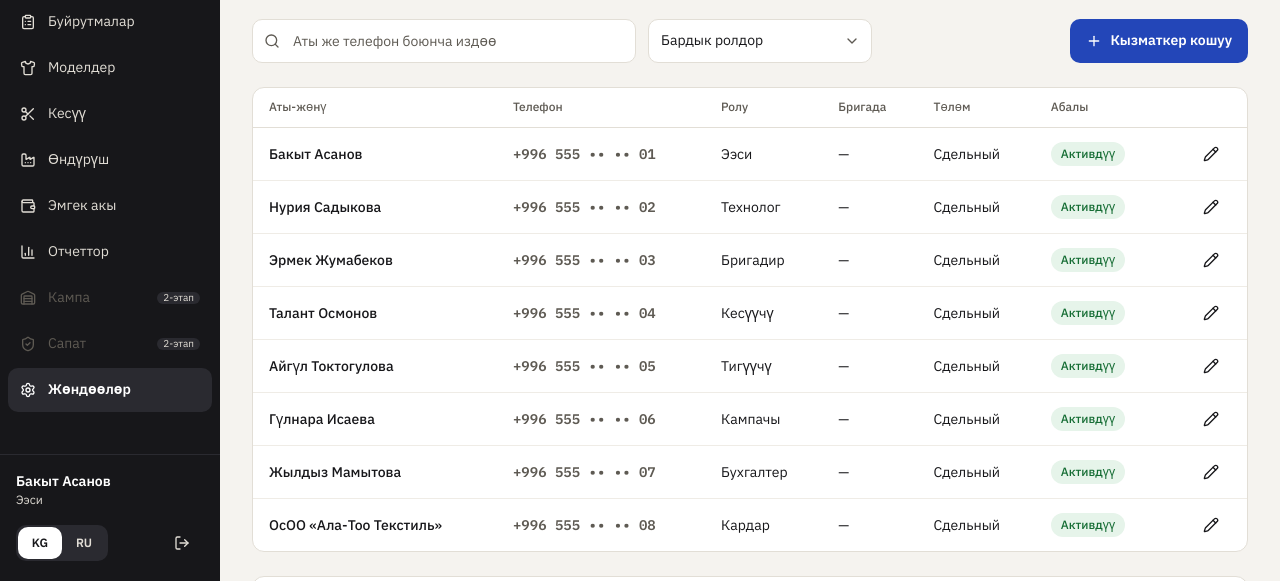
Test: settings (2.10) › adds a sewer: the PIN is sent automatically
The image size is (1280, 581).
Expected: the text "Айгүл Токтогулова" is shown, [269,357,394,375]
Click the button "Кызматкер кошуу": (1159, 41) [1070,19,1248,63]
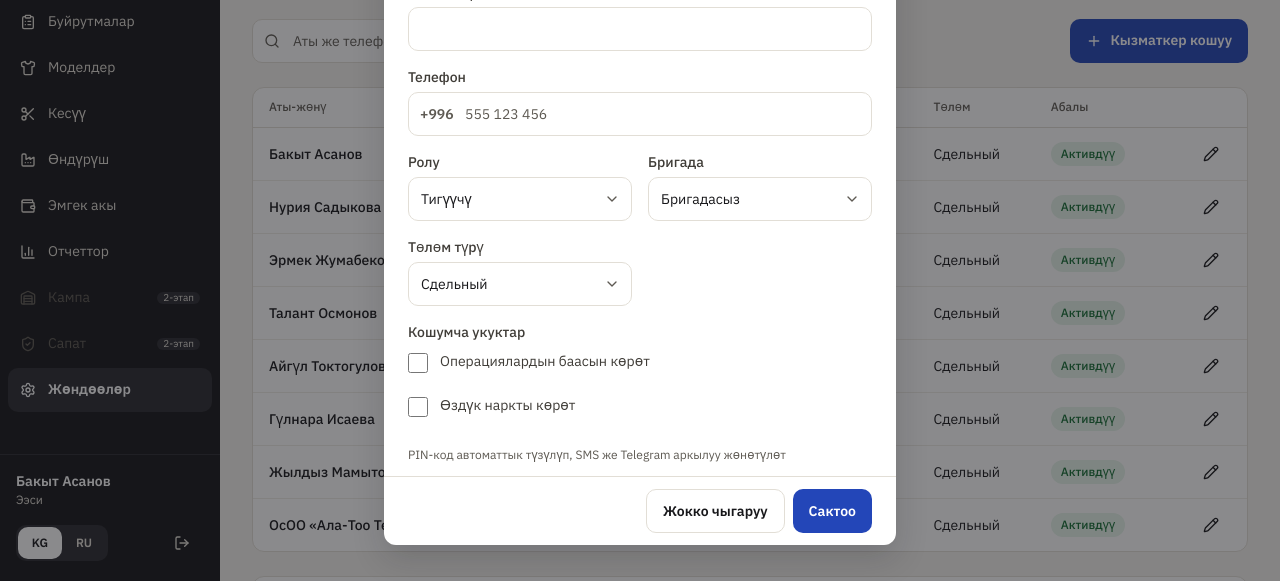
Expected: the text "PIN-код автоматтык түзүлүп, SMS же Telegram аркылуу жөнөтүлөт" is shown, [408,447,786,462]
In the field labelled "Аты-жөнү": (640, 29) [408,7,872,51], type "Мээрим Абдыкадырова"
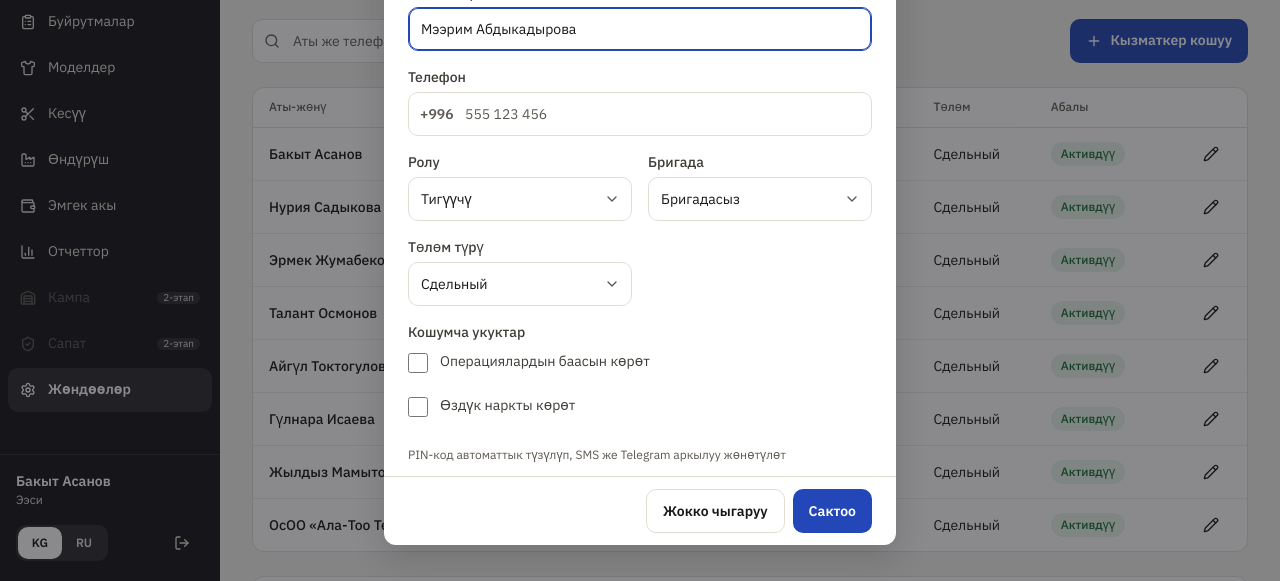
In the field labelled "Телефон": (640, 114) [408,92,872,136], type "700123456"
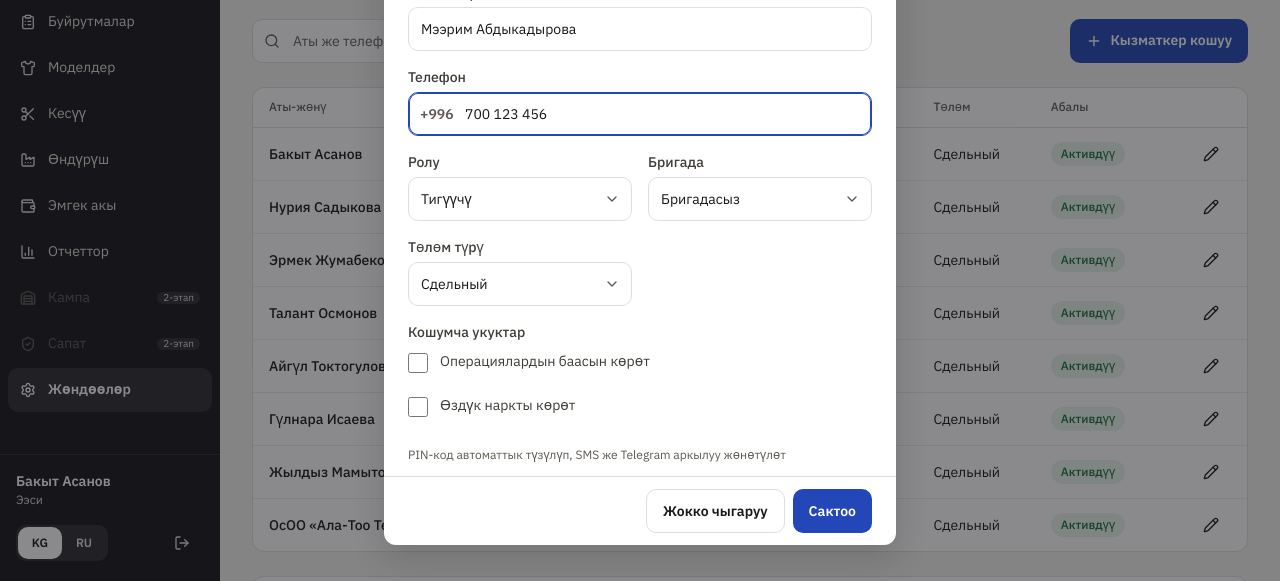
Click the button "Сактоо": (832, 511) [793,489,872,533]
(page scrolled)
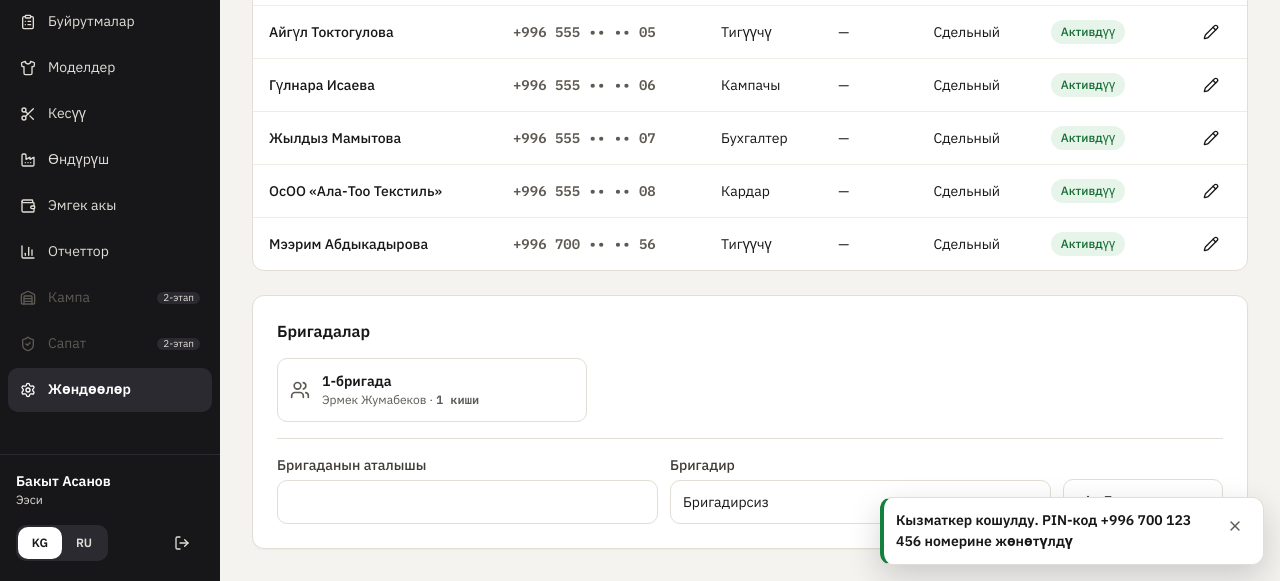
Expected: the text "Мээрим Абдыкадырова" is shown, [269,235,428,253]
